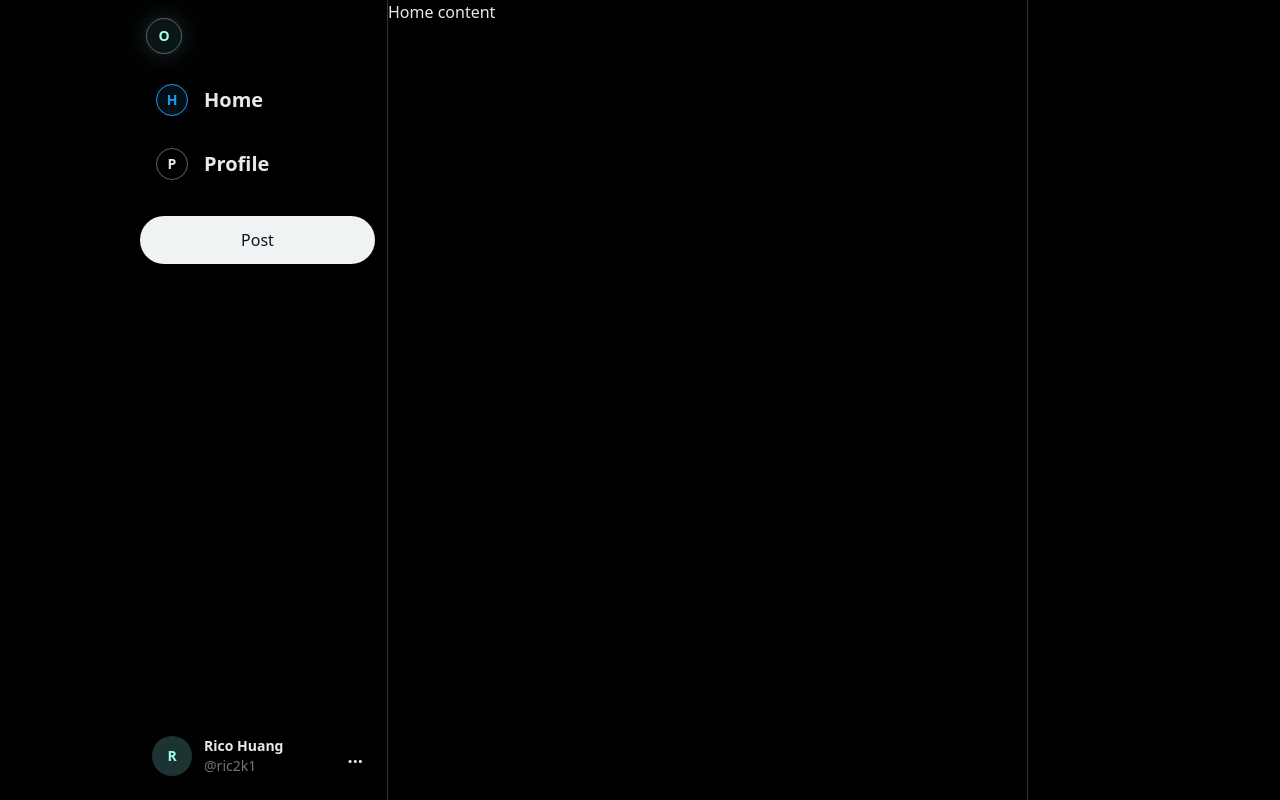
Test case: Phase 4 post composer UI › opens the working modal composer and confirms closing non-empty content
Click the button "Post": coordinates (258, 240) [140,216,375,264]
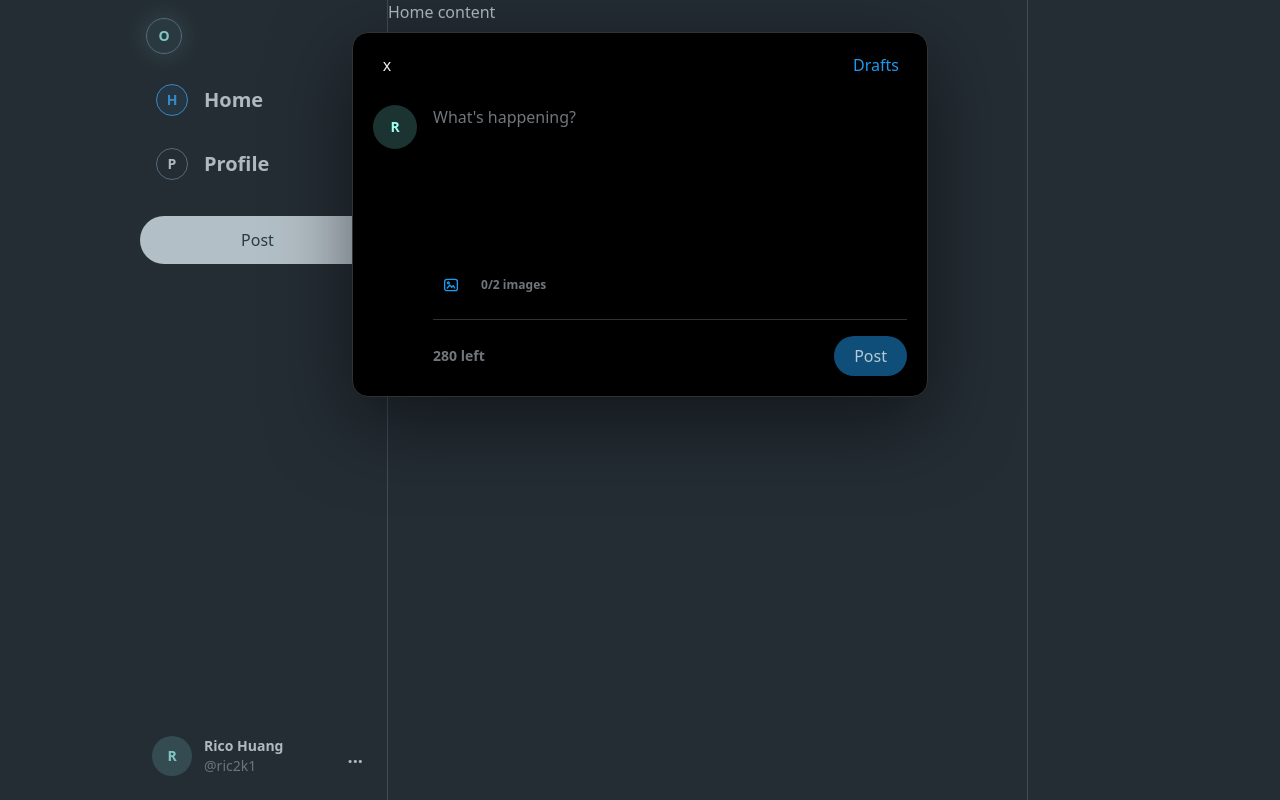
In the text box named "Post text": coordinates (670, 177) [433,105,907,249], type "unfinished post"
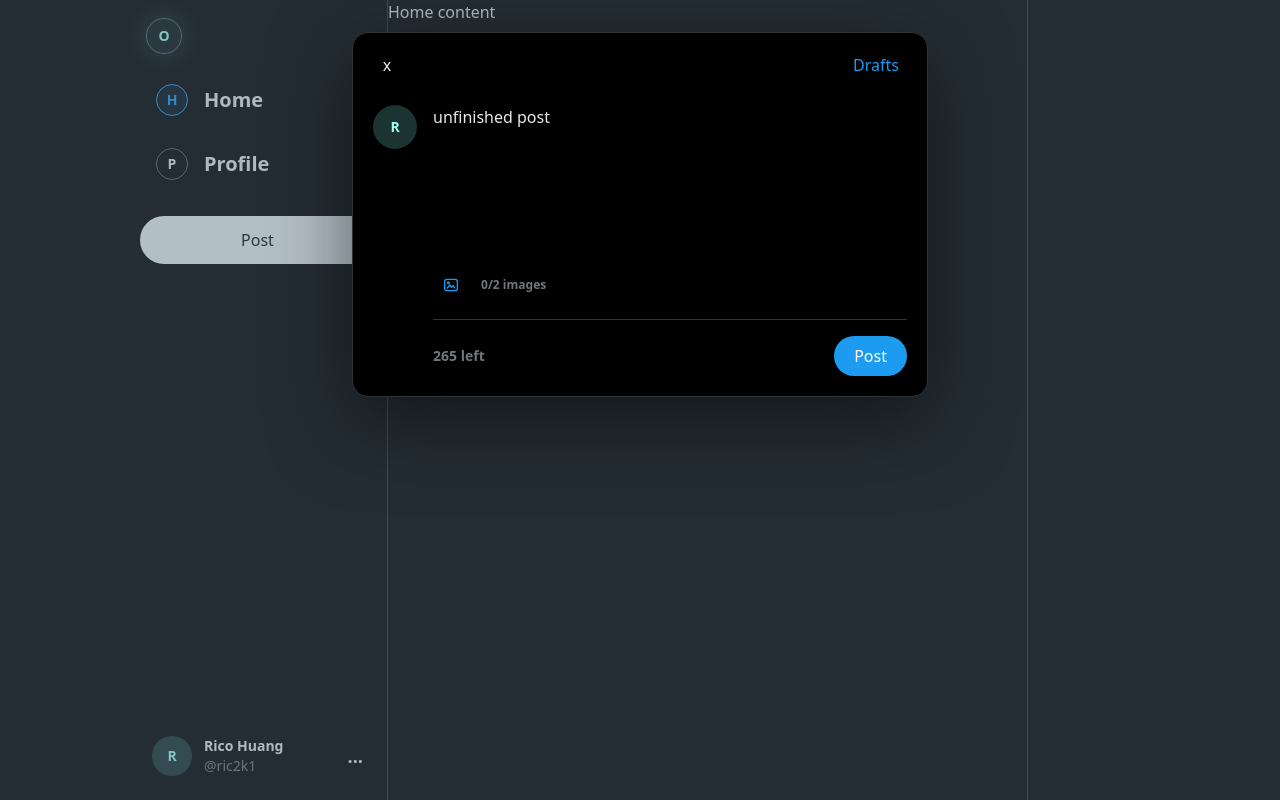
Click the button named "Close post composer": coordinates (387, 65) [369,47,405,83]
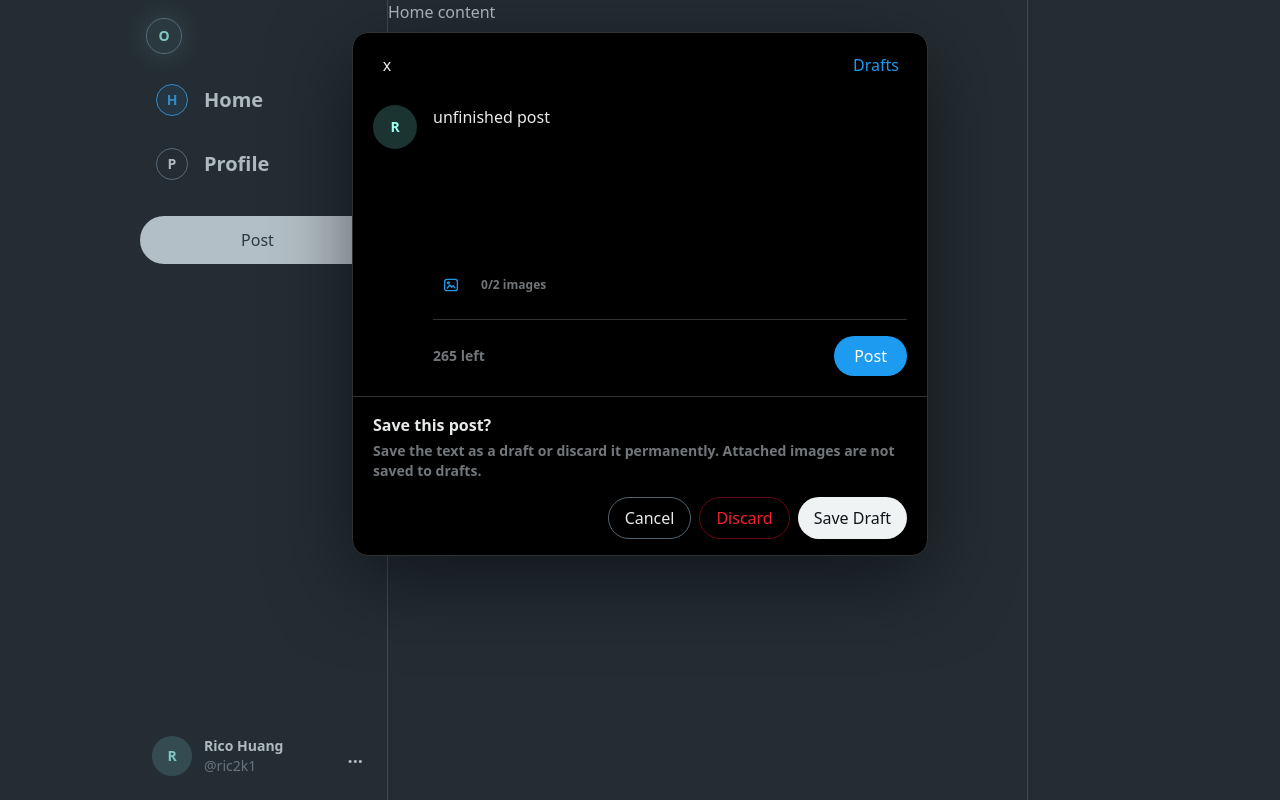
Result: the heading "Save this post?" is shown at [373,414,491,436]
Result: the button "Save Draft" is shown at [798,497,907,539]
Result: the button "Discard" is shown at [699,497,790,539]
